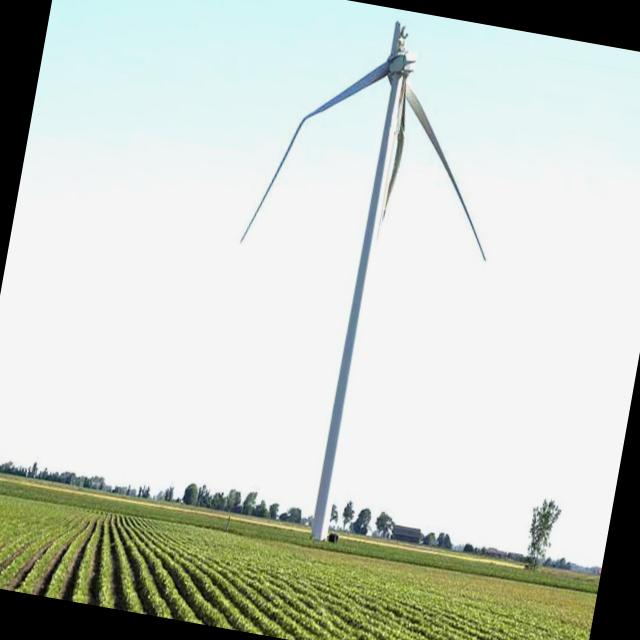crack: (350, 15, 440, 216), (228, 98, 326, 248)
